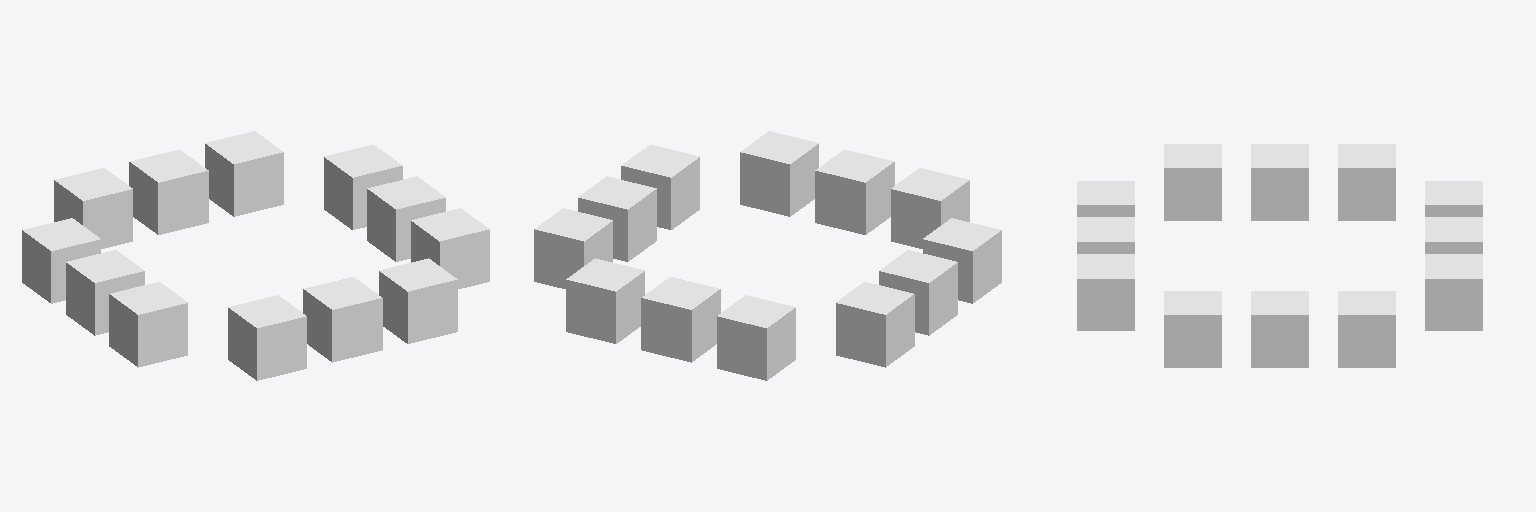
The model's file is CamFireCircle.obj.
3 views of the same model, side by side, from view 1: azimuth 30°, elevation 25°; view 2: azimuth 150°, elevation 25°; view 3: azimuth 270°, elevation 25° (orthographic).
Visible parts, largest first — view 1: object 1; view 2: object 1; view 3: object 1.
Part boxes in pixels (left/top/right/bottom): object 1: left=22, top=131, right=489, bottom=380; object 1: left=534, top=131, right=1001, bottom=380; object 1: left=1077, top=144, right=1482, bottom=367.
Bounding box in the file's own units: 1.4 × 0.2 × 1.4.